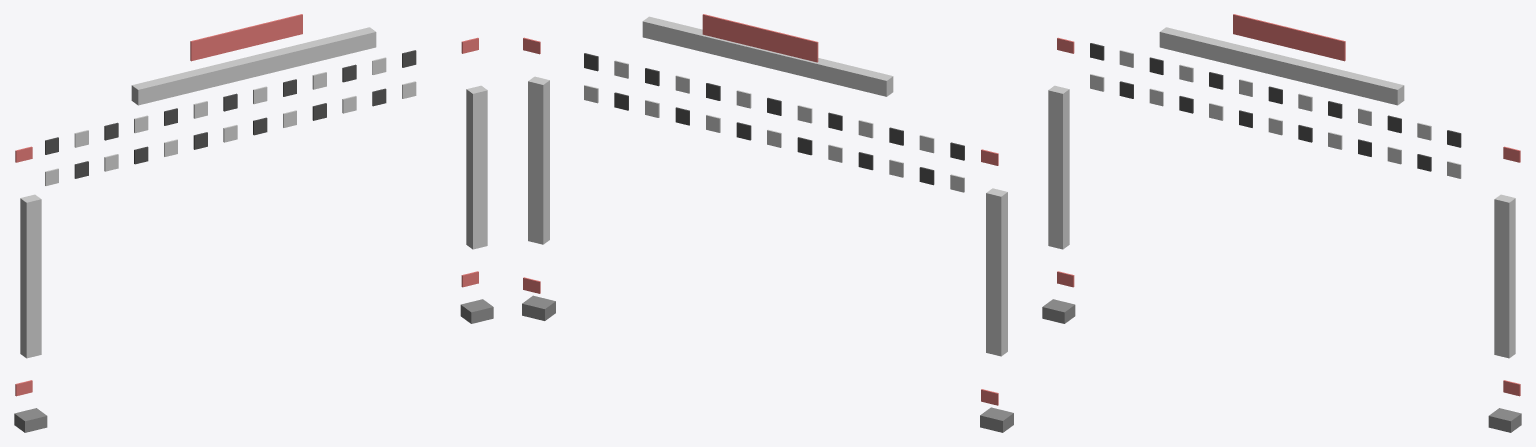
The model's file is start_arch.glb.
The picture shows the model from 3 angles, left to right: view 1: azimuth 30°, elevation 25°; view 2: azimuth 150°, elevation 25°; view 3: azimuth 330°, elevation 25°; orthographic projection. The views are drawn at different scales.
Parts seen in each view (by area): view 1: start_arch; view 2: start_arch; view 3: start_arch.
Boxes of the visible parts, x1,y1,x2,y2 form: start_arch: (14, 14, 493, 432); start_arch: (522, 14, 1013, 432); start_arch: (1042, 14, 1521, 432).
Bounding box in the file's own units: 6.3 × 4.35 × 0.335.
